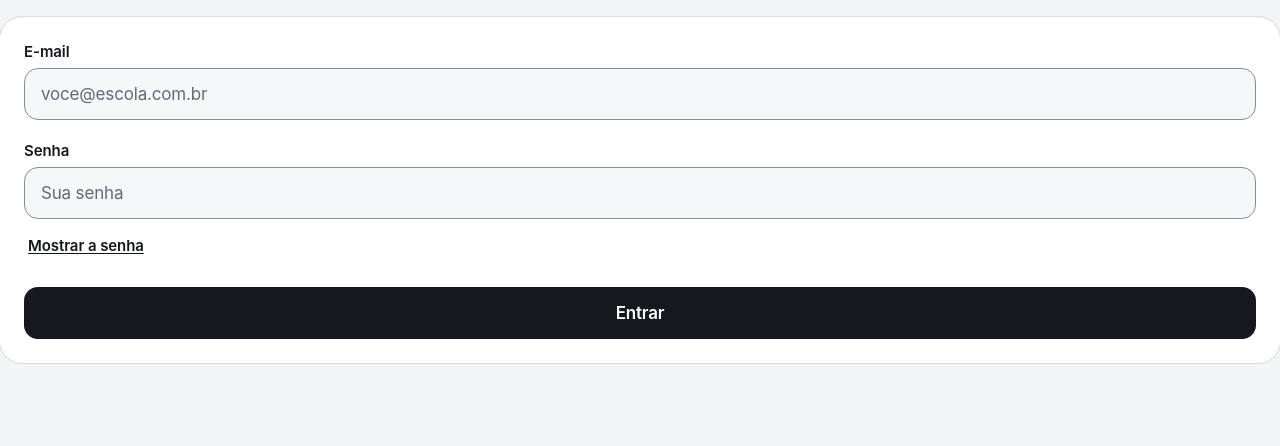
Test: LoginForm (login real) › credencial invalida: texto em portugues, senha apagada, nada de redirecionar
The image size is (1280, 446).
Type "ana@example.test" into the field labelled "E-mail".
click(640, 94); type("ana@example.test")  # box [24,68,1256,120]
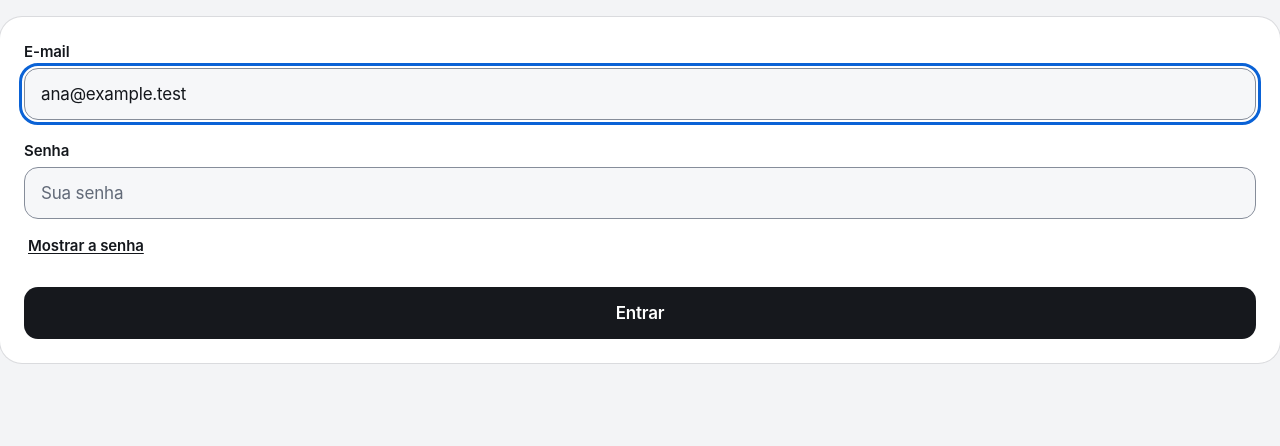
Type "senha-errada-123" into the password field labelled "Senha".
click(640, 193); type("senha-errada-123")  # box [24,167,1256,219]
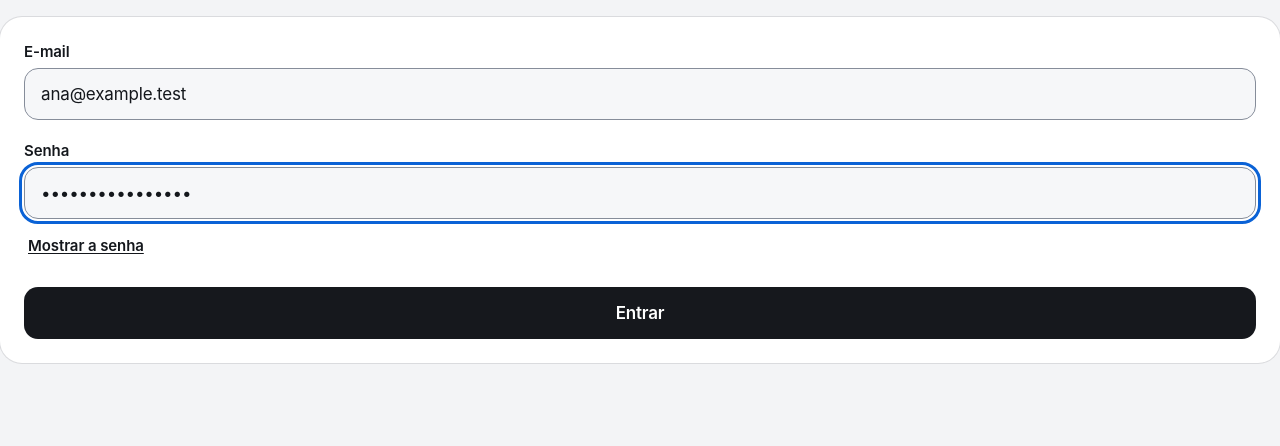
Click the button "Entrar".
click(640, 313)  # box [24,287,1256,339]
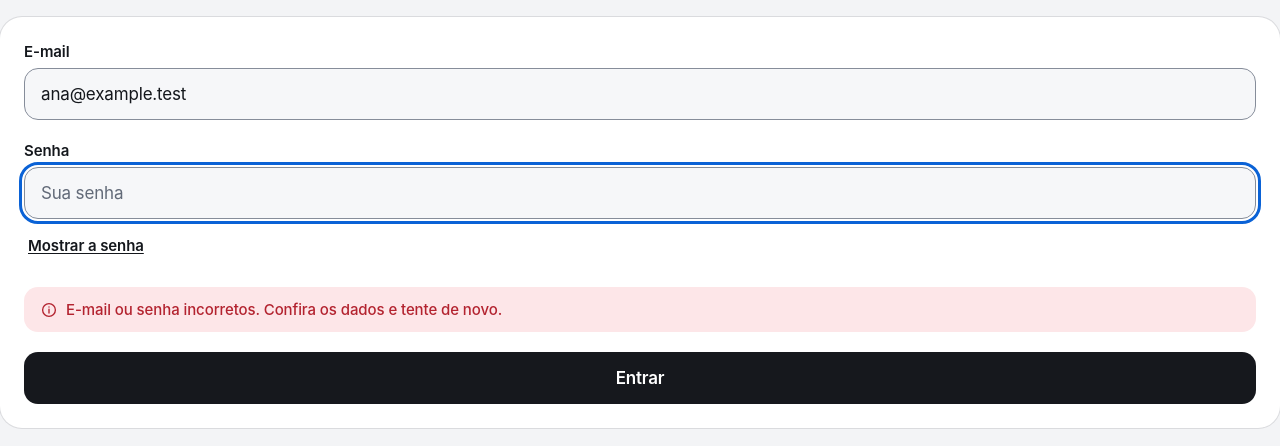
Expected: the message shows "E-mail ou senha incorretos", [66,300,502,319]
Expected: the password field labelled "Senha" is empty, [24,167,1256,219]
